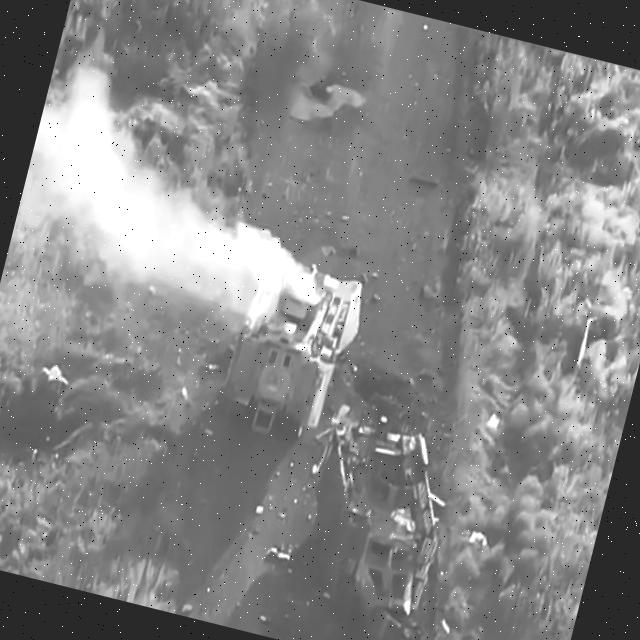Destroyed: (281, 403, 467, 640)
Vehicle: (214, 251, 366, 447)
